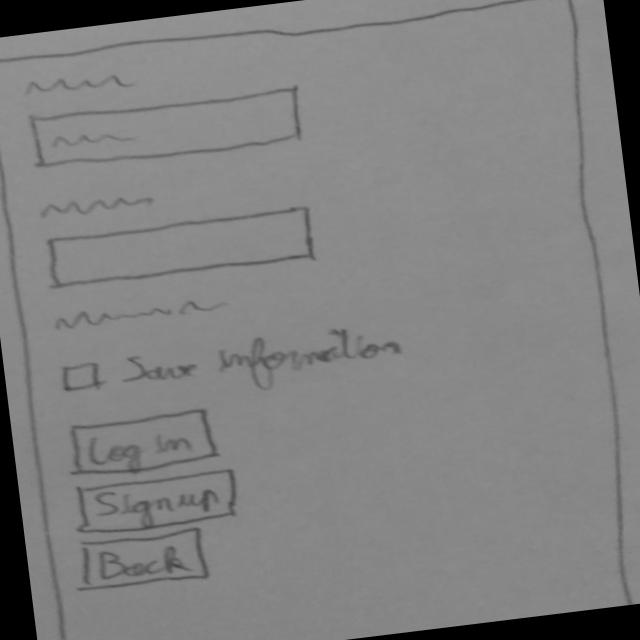button: (71, 466, 249, 541), (65, 403, 232, 482), (71, 527, 217, 597)
checkbox: (56, 312, 424, 414)
container: (1, 1, 640, 640), (41, 201, 331, 299)
input: (27, 81, 315, 175)
text: (49, 286, 225, 340), (22, 62, 153, 106), (33, 184, 174, 224)
